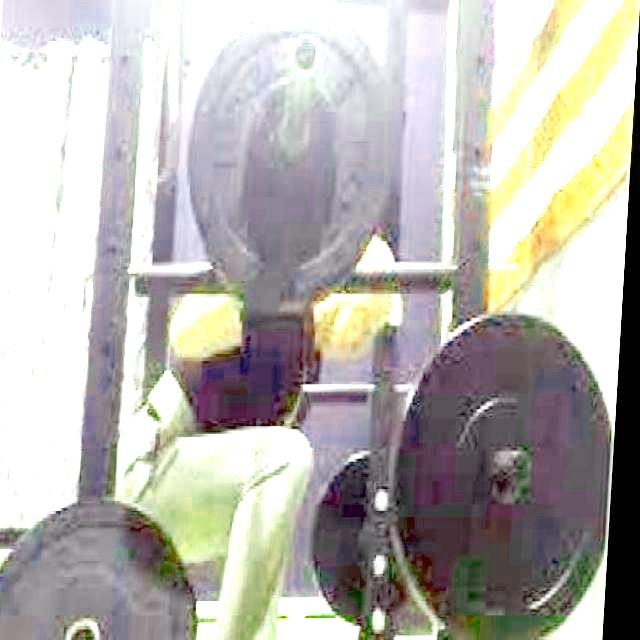barbell: (173, 1, 417, 316)
